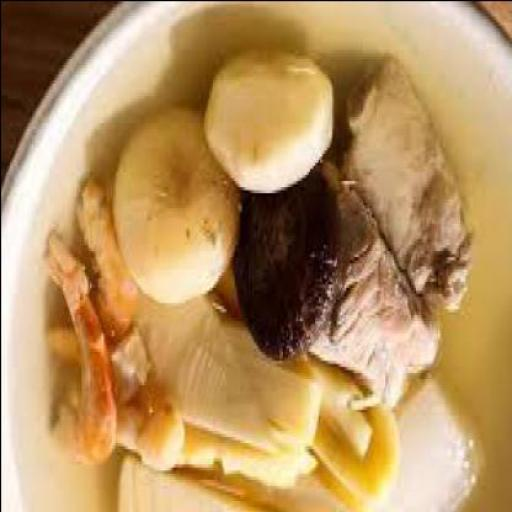biodegradable: (50, 280, 322, 494), (343, 61, 474, 314), (318, 165, 443, 409), (114, 106, 242, 308), (233, 170, 342, 362), (206, 46, 337, 198), (44, 232, 116, 472), (312, 362, 402, 511), (398, 378, 484, 509), (75, 186, 140, 347), (118, 458, 292, 512), (138, 390, 184, 476)
